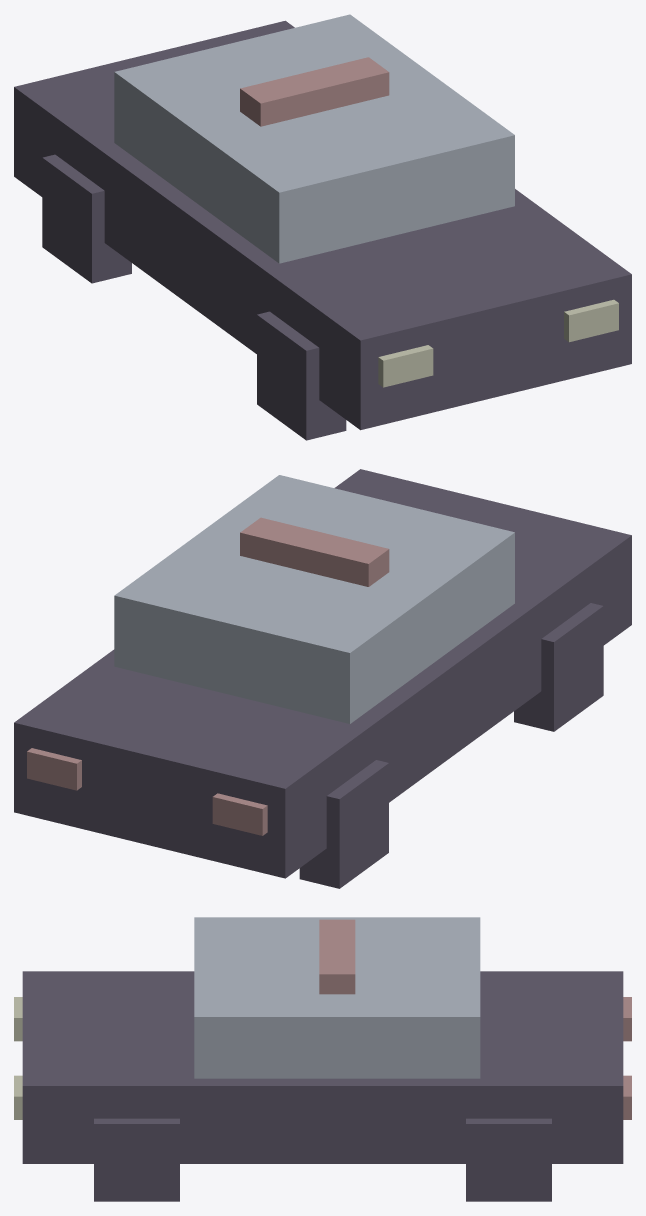
File: veh_police.glb
3 views of the same model, one above another, from view 1: azimuth 30°, elevation 25°; view 2: azimuth 150°, elevation 25°; view 3: azimuth 270°, elevation 25° (orthographic). The views are drawn at different scales.
Parts seen in each view (by area): view 1: veh_police; view 2: veh_police; view 3: veh_police.
Boxes of the visible parts, box(x1,y1,x2,y2) form: veh_police: box(14, 14, 631, 440); veh_police: box(14, 469, 631, 888); veh_police: box(14, 917, 631, 1201).
Size of the model in its own units: 2.08 by 1.48 by 4.32.
